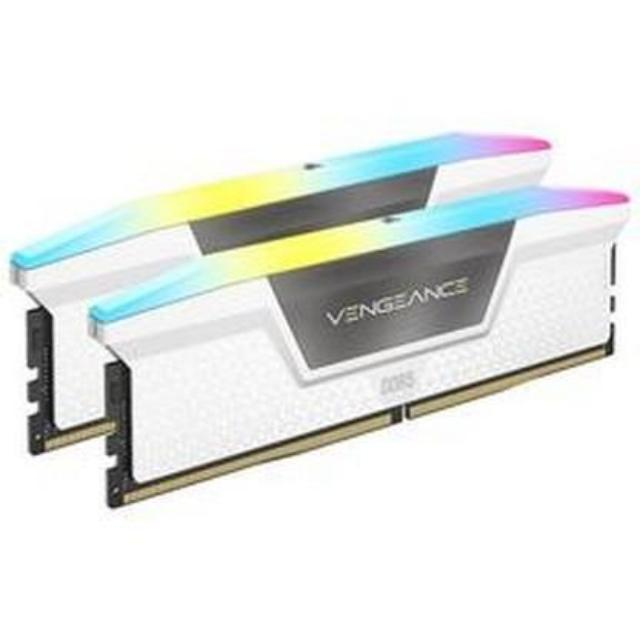RAM: (21, 114, 632, 482)
